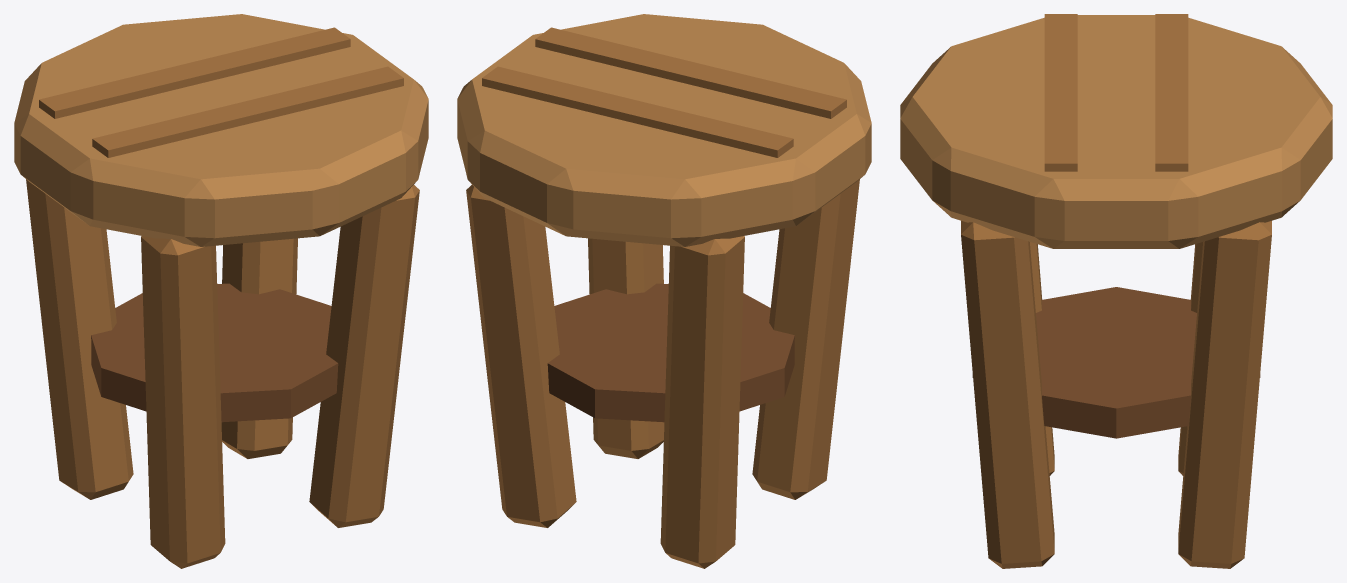
Rendered from arcade_stool.glb.
The picture shows the model from 3 angles, left to right: view 1: azimuth 30°, elevation 25°; view 2: azimuth 150°, elevation 25°; view 3: azimuth 270°, elevation 25°; orthographic projection. The views are drawn at different scales.
Parts seen in each view (by area): view 1: arcade_stool; view 2: arcade_stool; view 3: arcade_stool.
Part boxes in pixels (x1,y1,x2,y2): arcade_stool: [14, 14, 428, 568]; arcade_stool: [457, 14, 871, 568]; arcade_stool: [900, 14, 1332, 568].
Size of the model in its own units: 0.3804 by 0.4307 by 0.3907.
